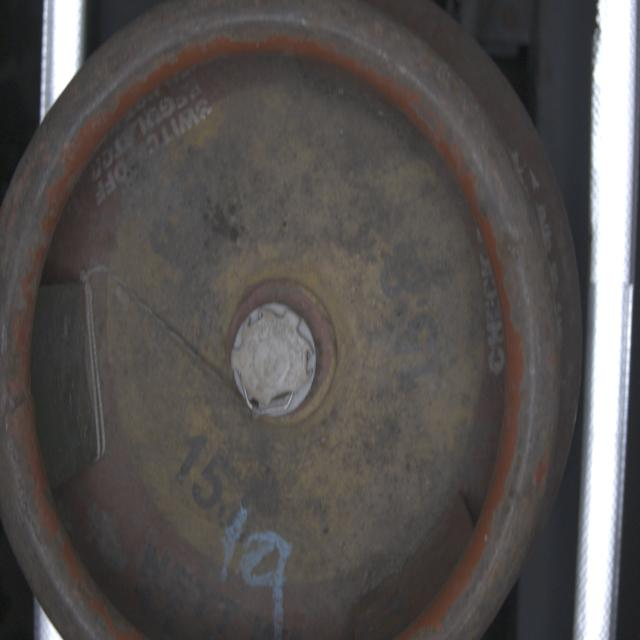Cap: (232, 303, 318, 427)
